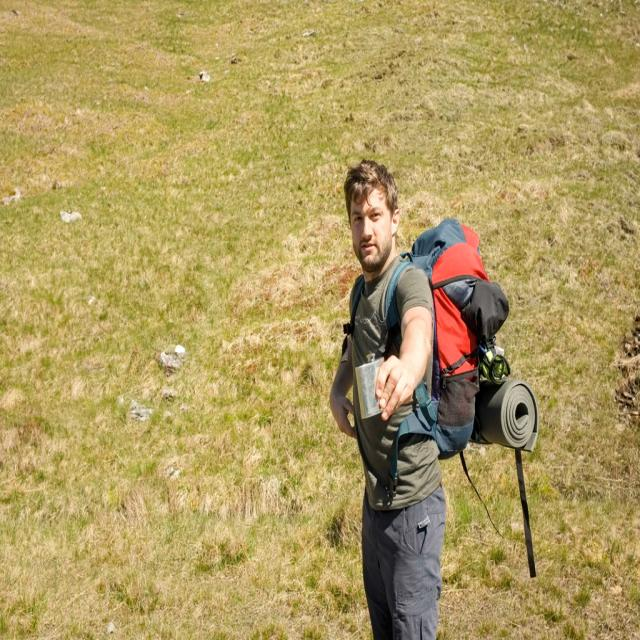backpack: (360, 220, 508, 472)
